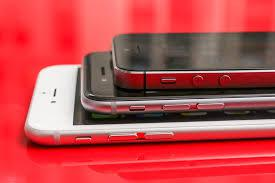Smartphone: (40, 63, 275, 138), (82, 55, 275, 110), (115, 34, 275, 80)
